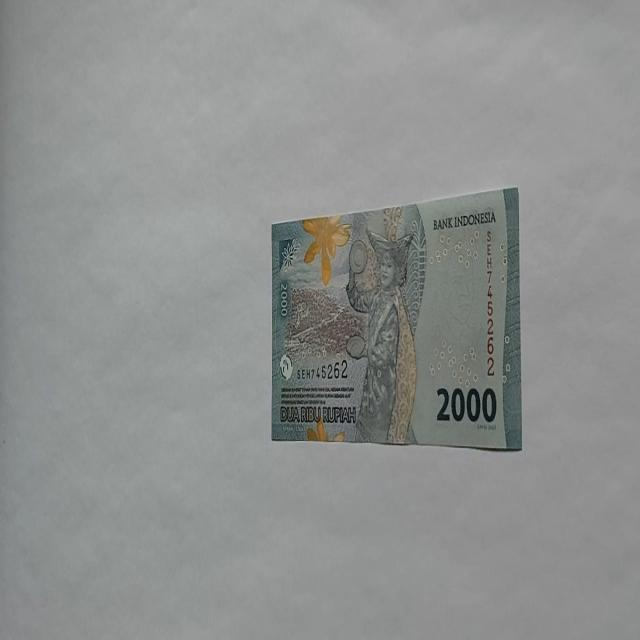dua ribu rupiah: (270, 185, 522, 451), (344, 222, 420, 444), (300, 214, 352, 286)
